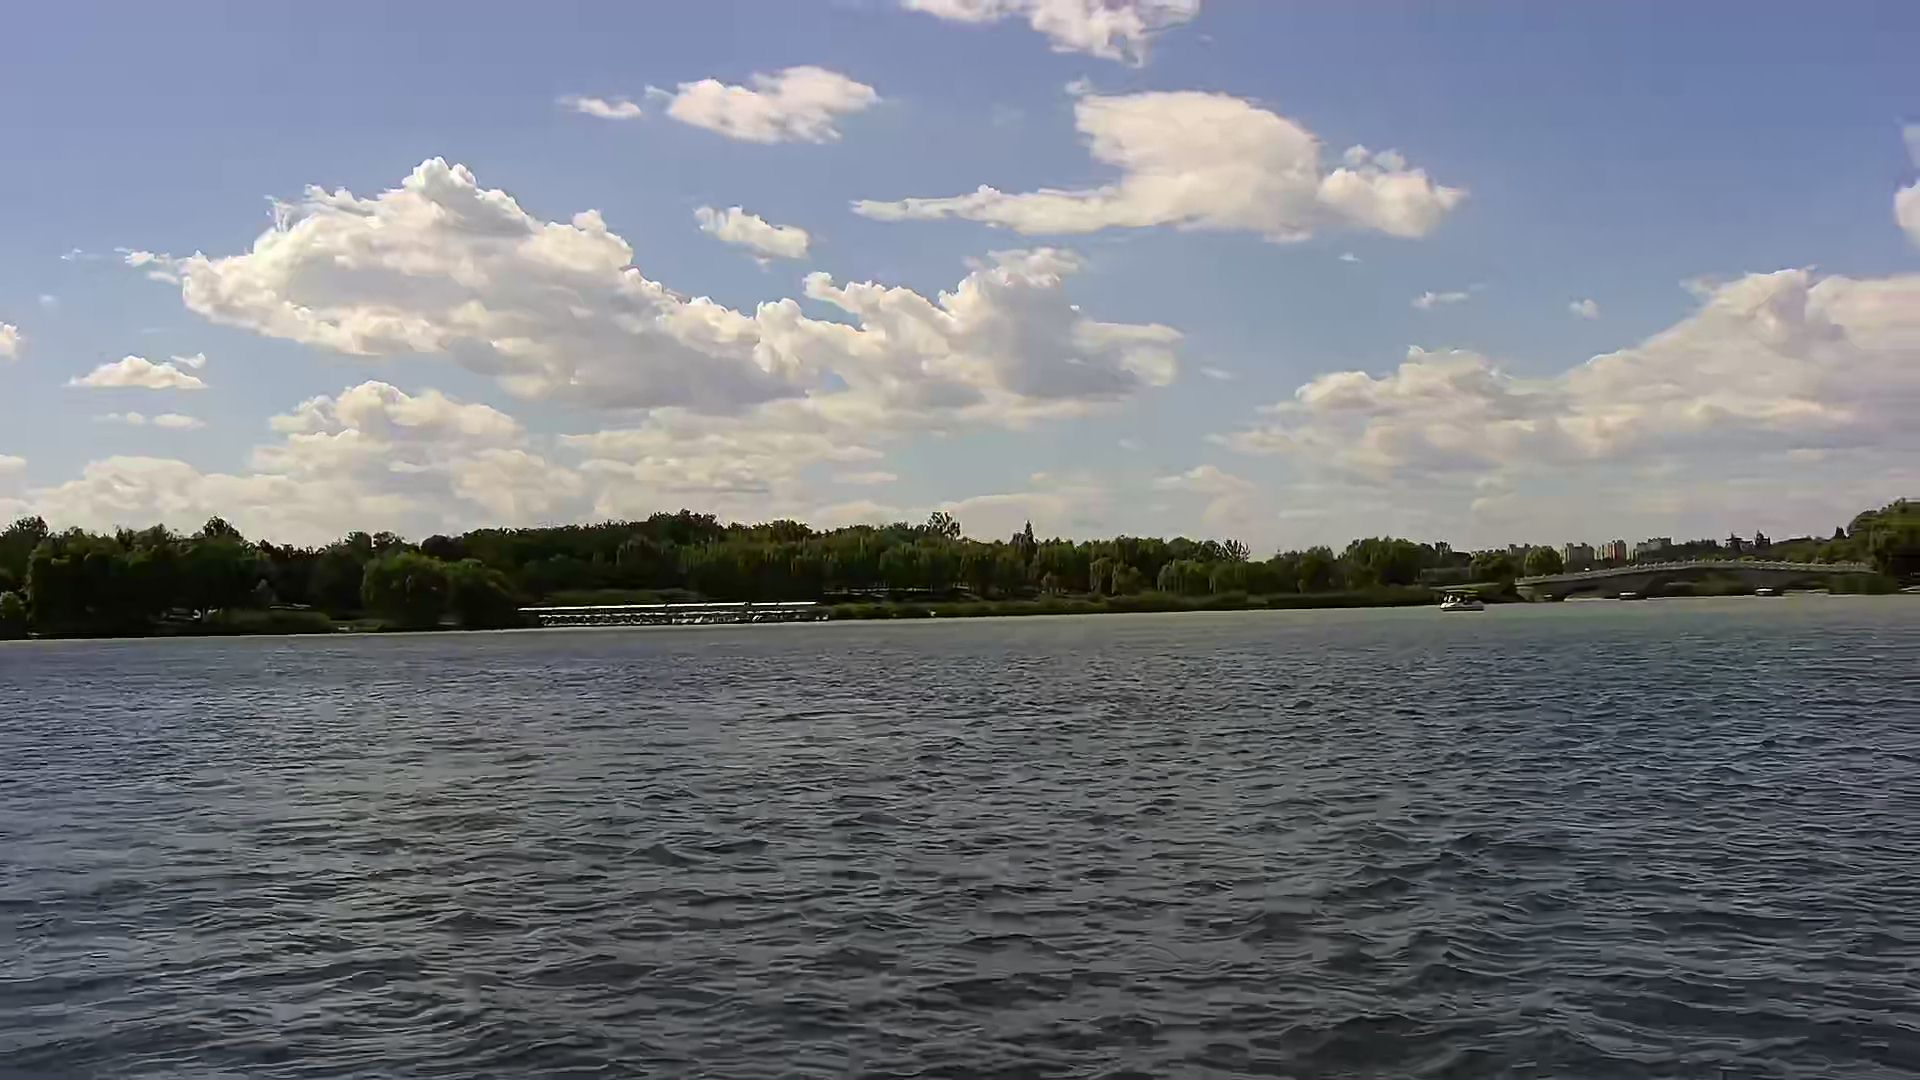boat: (1443, 585, 1490, 615)
bridge: (1514, 558, 1866, 603), (537, 603, 820, 622)
